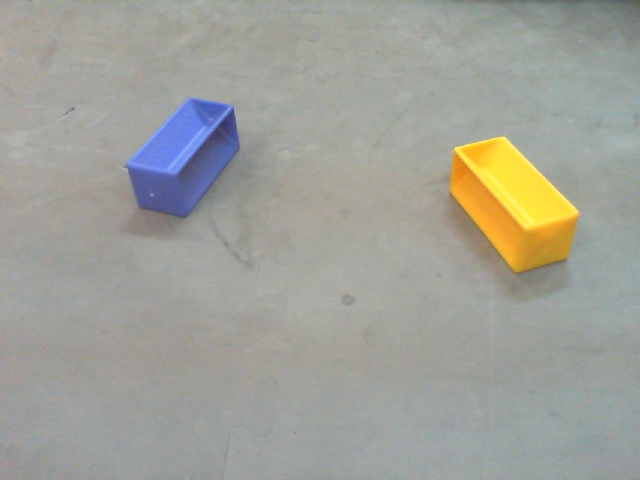BlueSample: (125, 95, 250, 226)
YellowSample: (446, 128, 580, 281)
